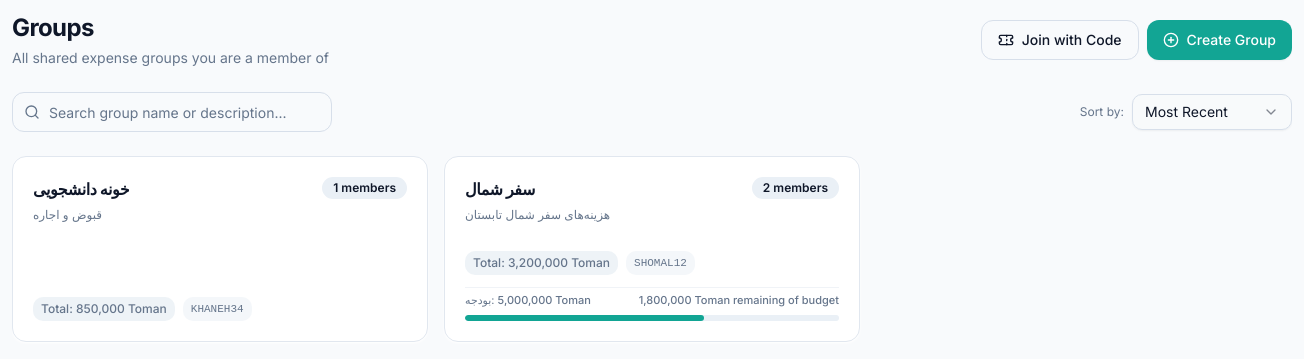
Test: Groups & Dashboard Feature › Groups Page UI › renders groups list and filters by search query
Expected: the text "سفر شمال" is shown, [465,177,535,201]
Expected: the text "خونه دانشجویی" is shown, [33,177,130,201]
Search input filters
Type "شمال" into the field with placeholder "Search group name or description...".
click(172, 112); type("شمال")  # box [12,92,332,132]
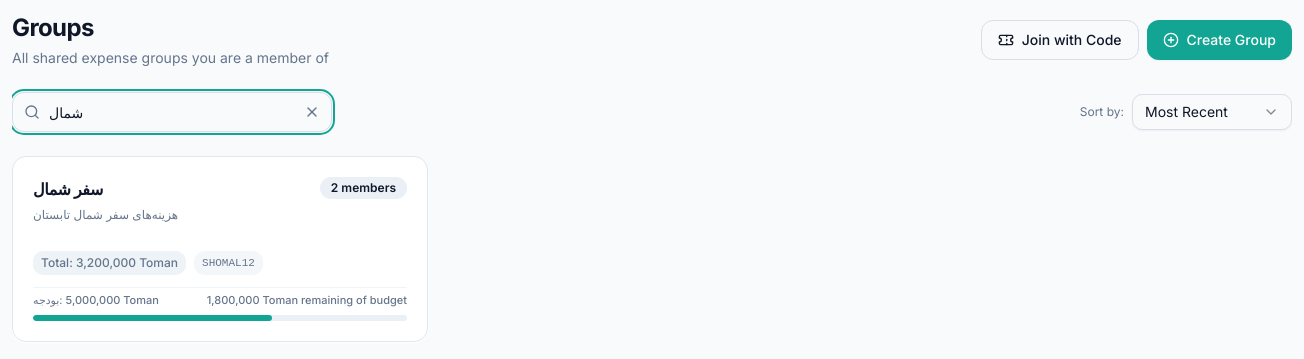
Expected: the text "سفر شمال" is shown, [33,177,103,201]
Expected: the link "خونه دانشجویی" is gone
Clearing search restores all
Clear the field with placeholder "Search group name or description..." at (172, 112), box [12,92,332,132]
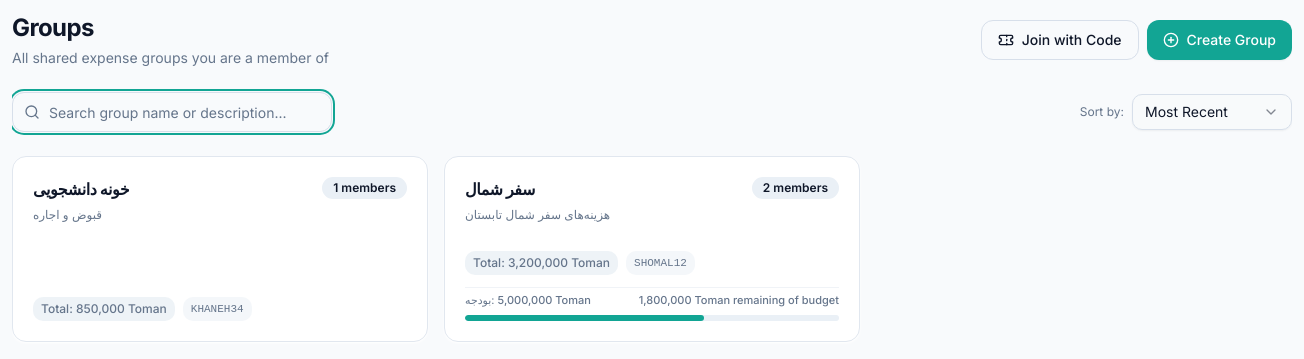
Expected: the text "خونه دانشجویی" is shown, [33,177,130,201]
